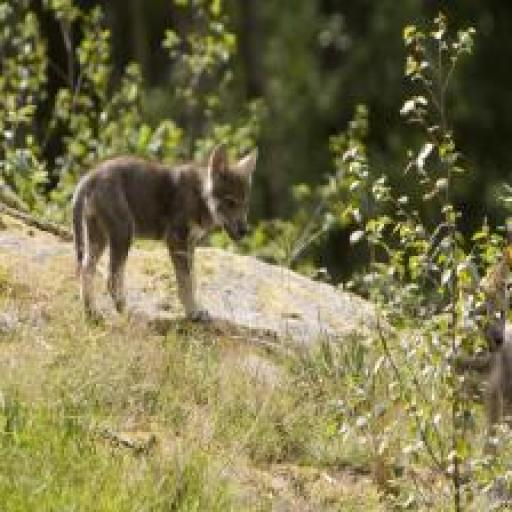wolf: (69, 140, 264, 345)
